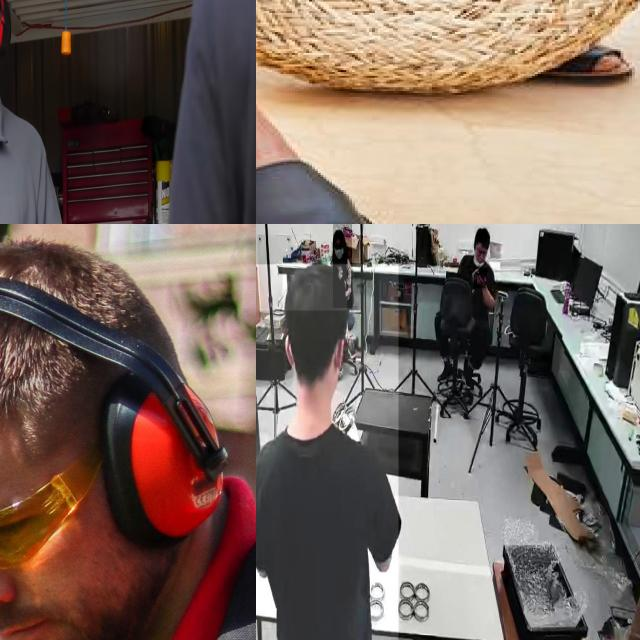Ear-protection: (0, 271, 241, 544)
Sandals: (256, 107, 389, 224)
face_mask: (332, 242, 348, 258)
glasses: (0, 452, 105, 574)
hand_noglove: (474, 268, 488, 289)
head_nohelmet: (282, 262, 348, 312), (474, 226, 490, 243), (332, 229, 344, 240)
person: (256, 264, 399, 640), (432, 224, 499, 383), (333, 224, 352, 307)
shoes: (436, 357, 454, 385)
